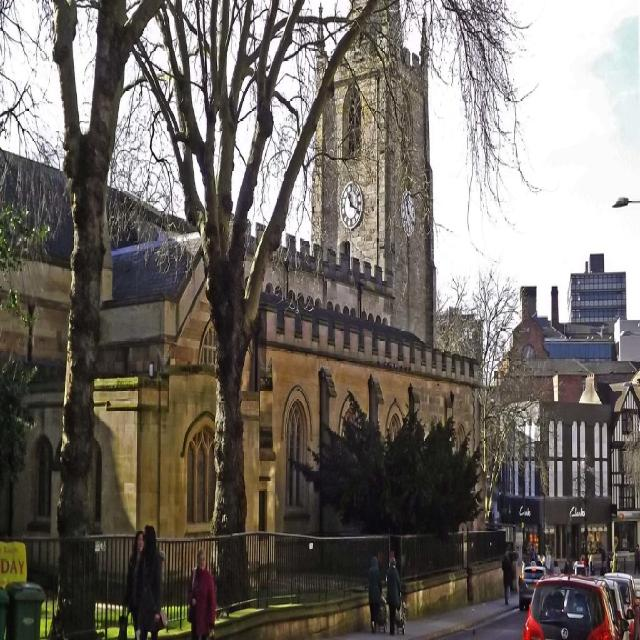car: (518, 566, 626, 638)
